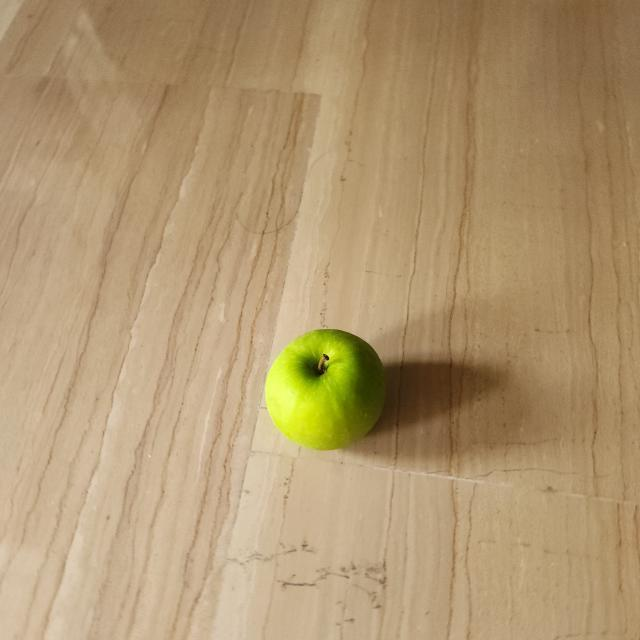apple: (258, 314, 392, 460)
